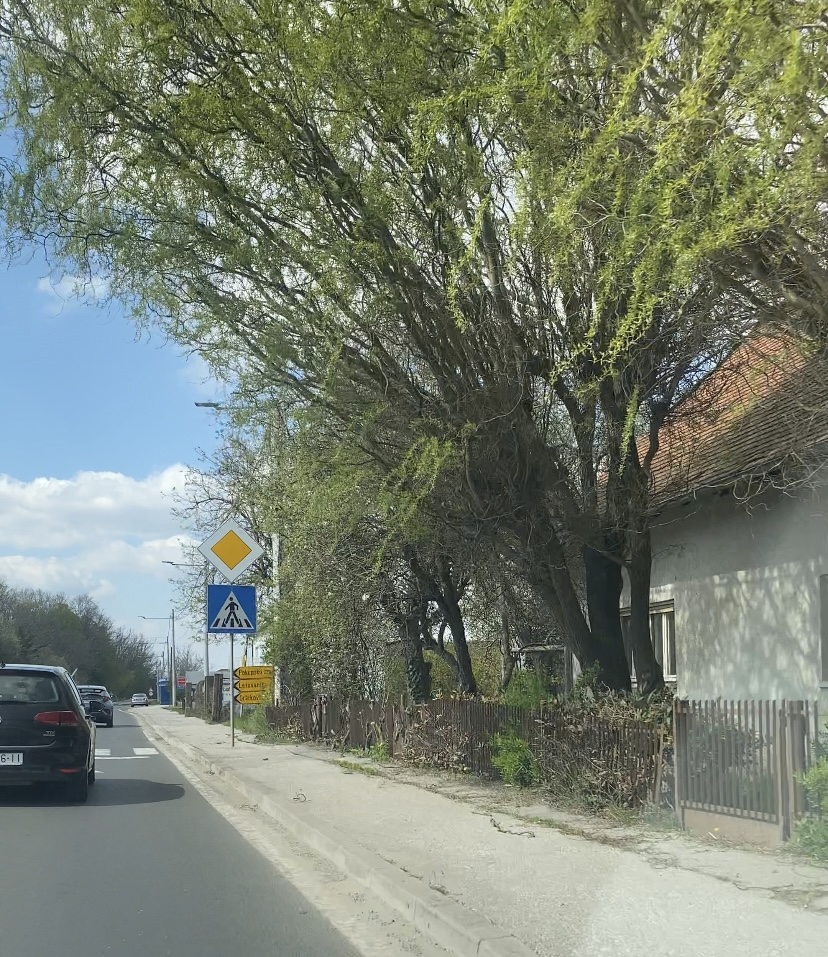Cesta s prednošću prolaska: (197, 518, 265, 584)
Pješački prijelaz: (207, 585, 257, 633)
